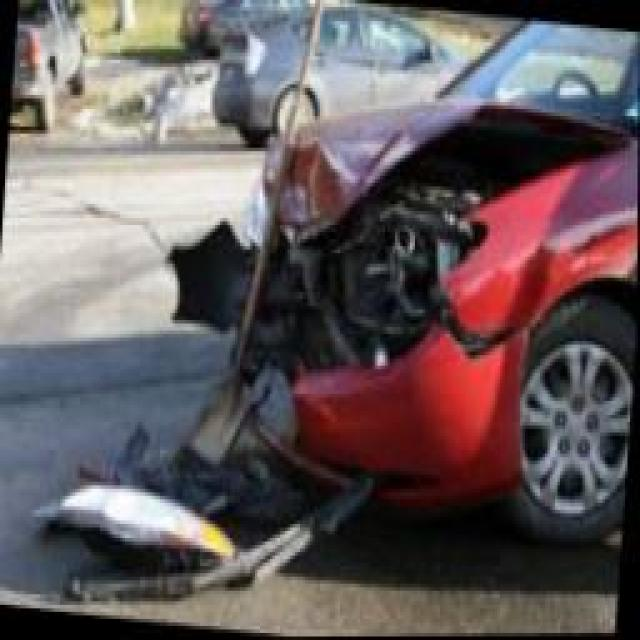Bonnet: (268, 95, 620, 236)
Bumper: (170, 232, 523, 514)
Light: (345, 213, 485, 323)
